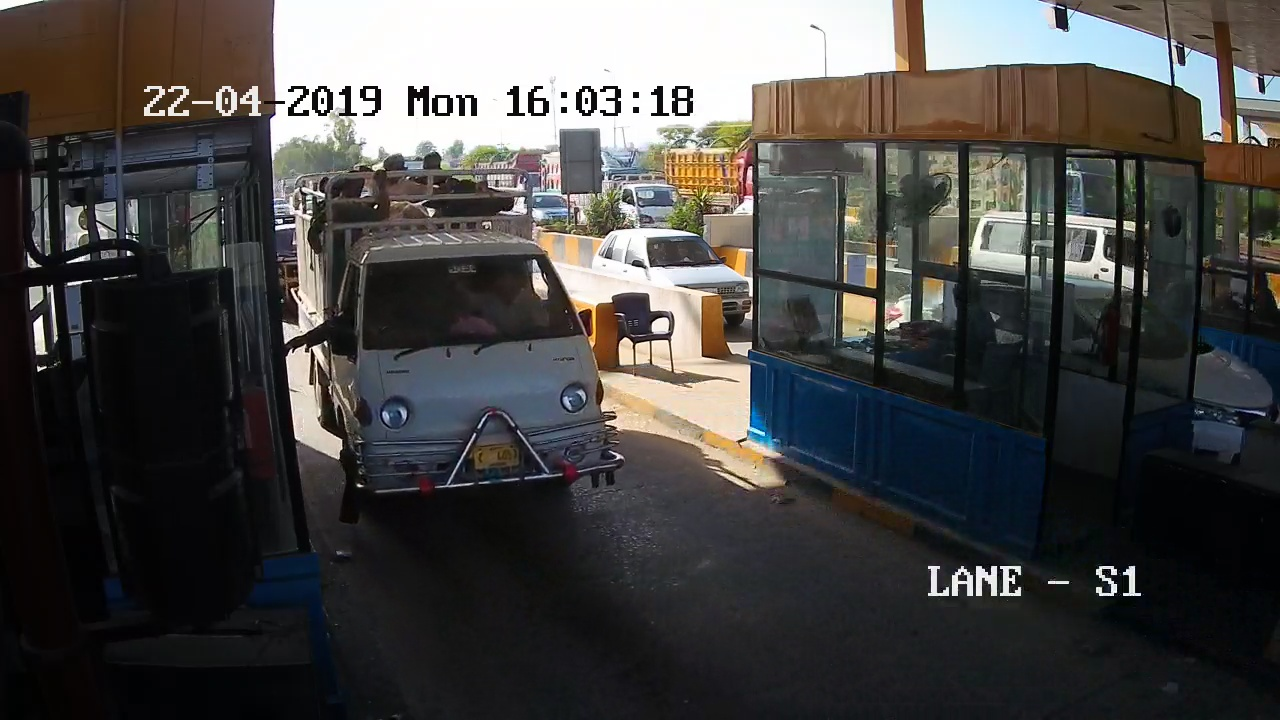Number Plate (Car): (475, 444, 518, 468)
